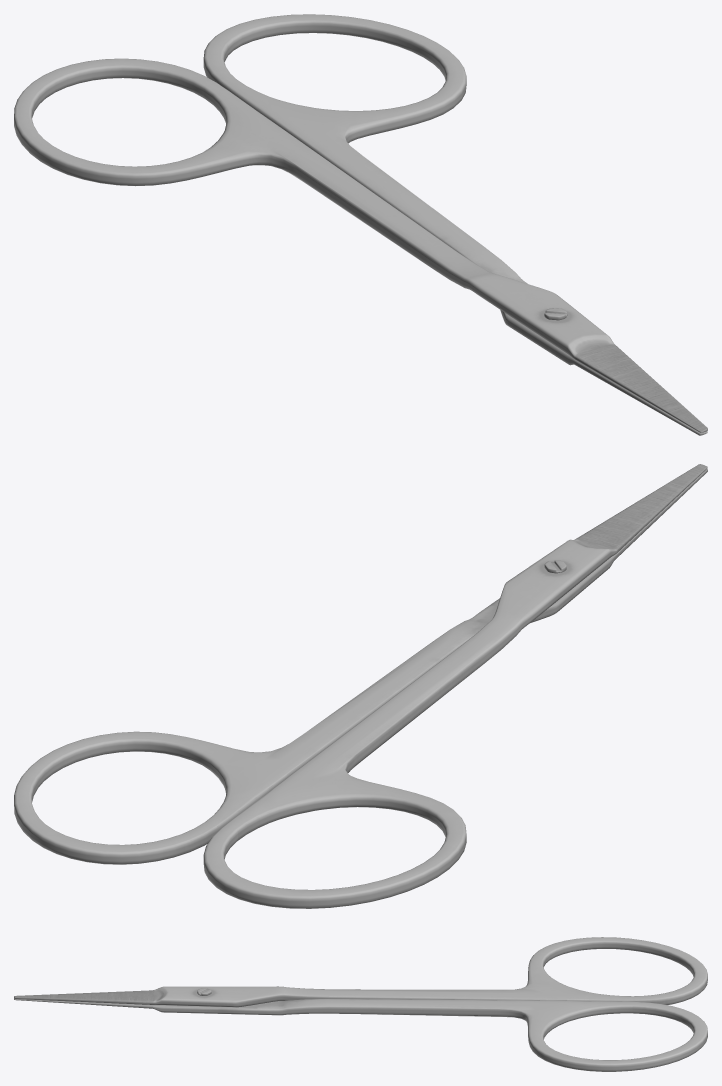
The model's file is Scissors.fbx.
3 views of the same model, one above another, from view 1: azimuth 30°, elevation 25°; view 2: azimuth 150°, elevation 25°; view 3: azimuth 270°, elevation 25° (orthographic). The views are drawn at different scales.
Visible parts, largest first — view 1: Scissors_2; view 2: Scissors_2; view 3: Scissors_2.
Boxes of the visible parts, x1,y1,x2,y2 form: Scissors_2: [14, 14, 707, 435]; Scissors_2: [14, 464, 707, 908]; Scissors_2: [14, 937, 707, 1071].
Bounding box in the file's own units: 6.7 × 0.4637 × 15.35.
Materials: 1 (1 with a texture image).
